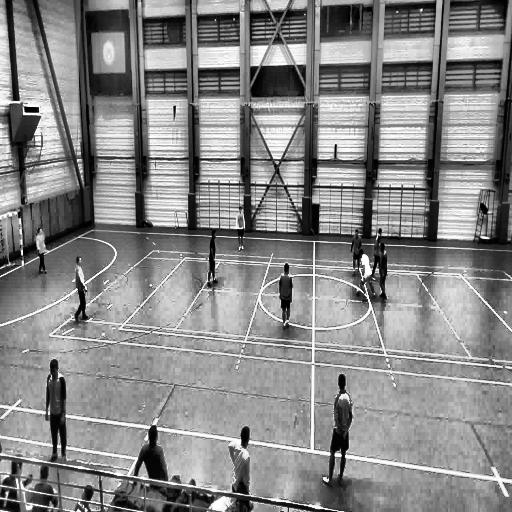ball: (354, 286, 360, 297)
player: (326, 375, 353, 489), (44, 360, 67, 460), (358, 248, 378, 304), (74, 256, 89, 323), (278, 263, 292, 331), (378, 240, 388, 300), (208, 230, 218, 288), (351, 229, 362, 277), (36, 228, 47, 274), (236, 208, 246, 252)
